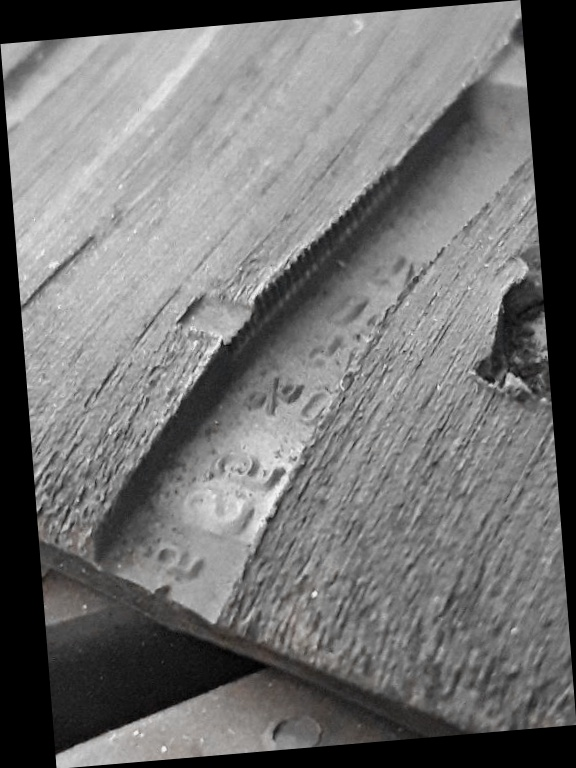temoin:0: (161, 260, 283, 370)
